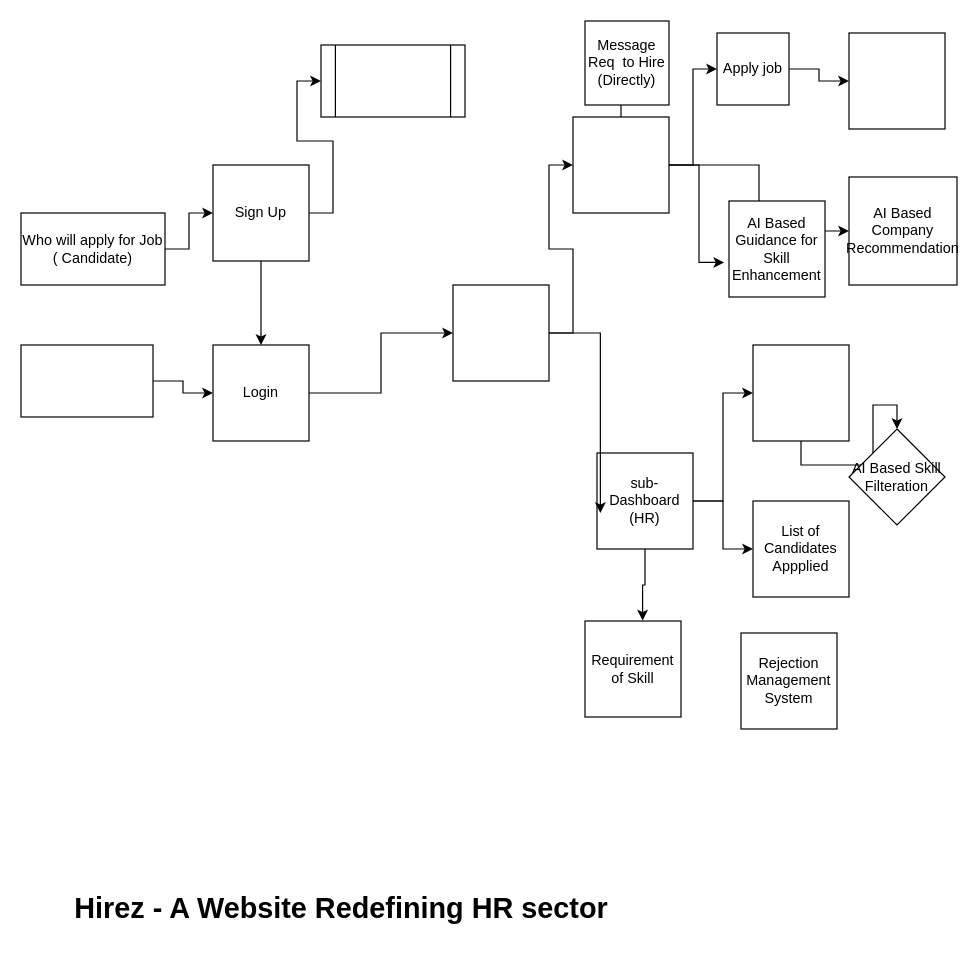
Some shapes in this 980 by 954 pixel diagram are drawn without their labels. Here are the shapes that lost their labels. From the top down, the centre of each, then its label:
the point at 392,80: User Database (MongoDB)
the point at 896,80: Rejection Feedback & Guidance AI System
the point at 620,164: sub-Dashboard (Candidate)
the point at 500,332: Dashboard
the point at 86,380: HR professional
the point at 800,392: List of All candidates
